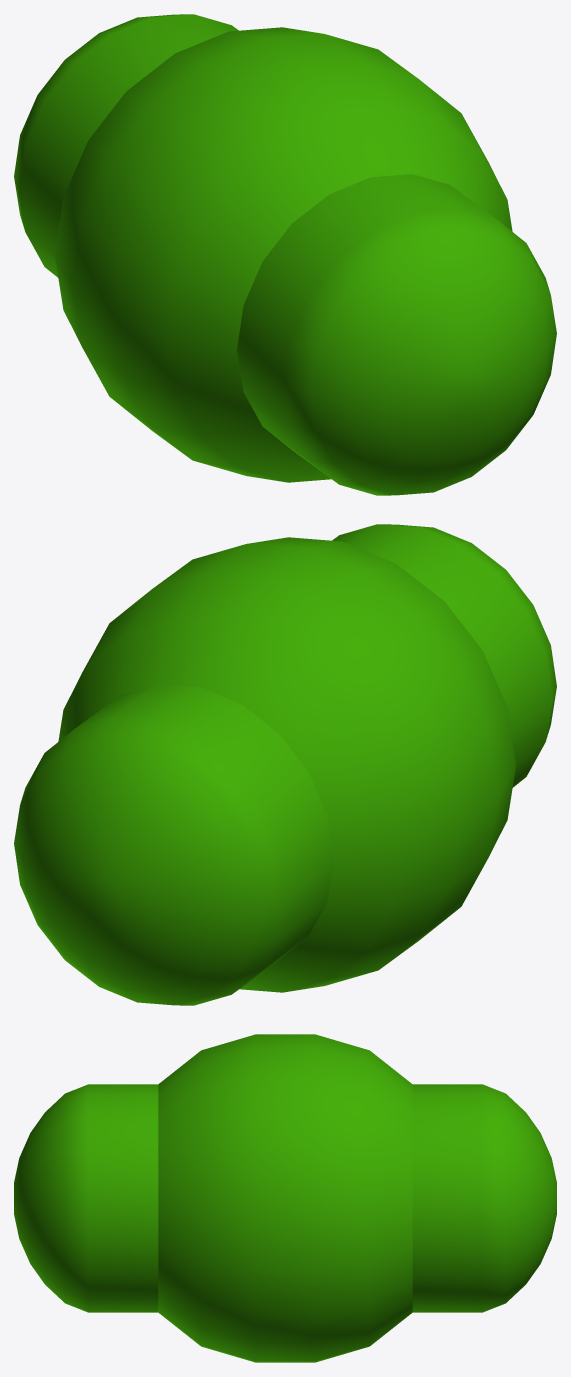
The model's file is Liquide_Mesh.fbx.
The picture shows the model from 3 angles, top to bottom: view 1: azimuth 30°, elevation 25°; view 2: azimuth 150°, elevation 25°; view 3: azimuth 270°, elevation 25°; orthographic projection. The views are drawn at different scales.
Visible parts, largest first — view 1: Liquide_Mesh; view 2: Liquide_Mesh; view 3: Liquide_Mesh.
Part boxes in pixels (left/top/right/bottom): Liquide_Mesh: left=14, top=14, right=556, bottom=495; Liquide_Mesh: left=14, top=524, right=556, bottom=1005; Liquide_Mesh: left=14, top=1034, right=556, bottom=1362.
Bounding box in the file's own units: 144 × 144 × 236.
